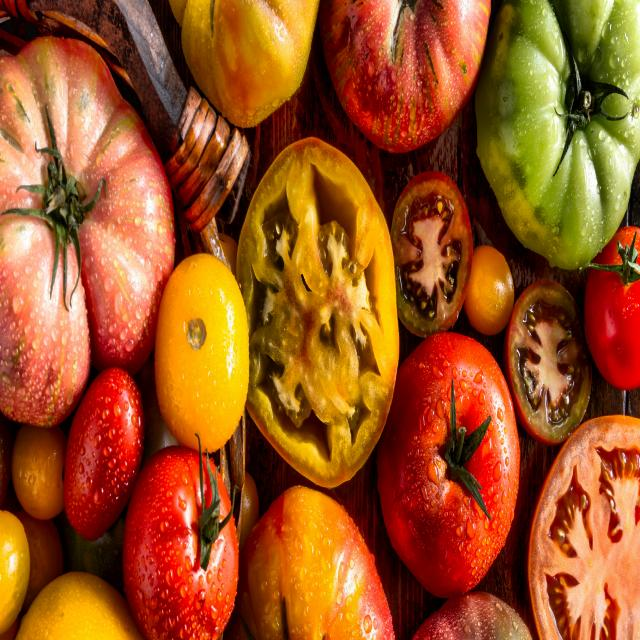tomato: (207, 110, 400, 470), (397, 318, 520, 602), (115, 422, 247, 634)
